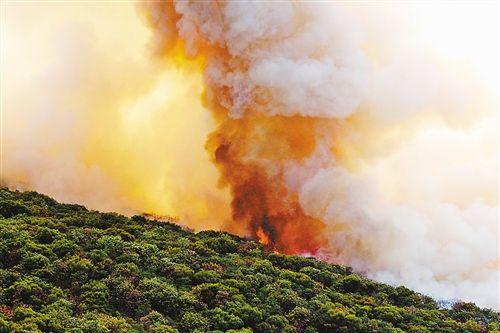fire: (227, 106, 328, 247), (123, 97, 224, 222)
smoke: (333, 15, 498, 273), (2, 4, 114, 199), (112, 4, 330, 103)
